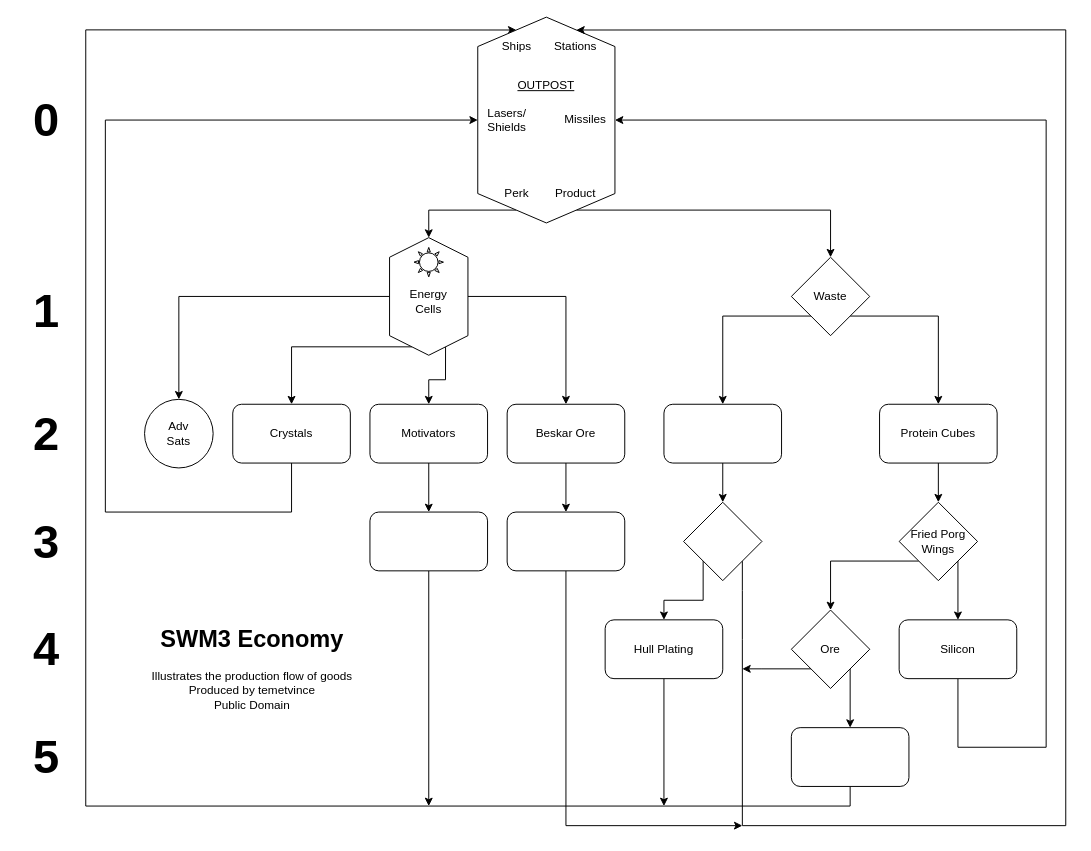
Some shapes in this 1091 by 851 pixel diagram are drawn without their labels. Each missing label, with the box of its shape:
Chemicals: (663, 403, 782, 463)
Durasteel: (683, 501, 762, 581)
Mandalorian Iron: (506, 511, 625, 571)
Power Converters: (369, 511, 488, 571)
Thermal Regulators: (790, 727, 909, 786)
